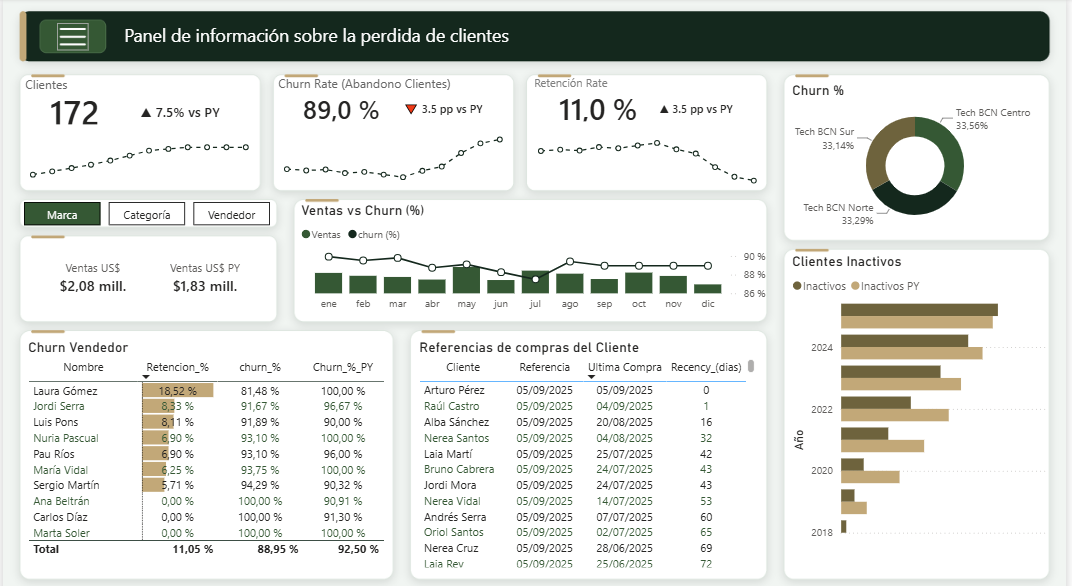

The page's visual inventory and layout, read from the dashboard file:
{"tool":"powerbi","page":{"name":"Panel Abandono Clientes","canvas":[1280,720],"ordinal":2},"visuals":[{"type":"cardVisual","fields":{"Data":["Medidas_churn.churn_%","Medidas_Rate.Churn_%_vs_PY_(Texto)"]},"box":[332.7,97.3,275,68],"z":0,"group":"g2"},{"type":"cardVisual","fields":{"Data":["Medidas_churn.Retencion_%","Medidas_Rate.Retencion_%_vs_PY_texto"]},"box":[640,97.5,275,68],"z":0,"group":"g1"},{"type":"cardVisual","fields":{"Data":["Medidas_churn.clientes_totales","Medidas_Clientes_Activos.Clientes_Totales_Vs_PY_texto"]},"box":[27.3,101.4,275,68],"z":0},{"type":"textbox","box":[21.4,88.6,85.7,31.4],"z":1000},{"type":"lineChart","fields":{"Category":["DIM_Calendario.Mes Corto"],"Y":["Medidas_Serie.Retencion_%_vs_PY_(texto)"]},"box":[633,151,285,80],"z":1000,"group":"g1"},{"type":"lineChart","fields":{"Category":["DIM_Calendario.Mes Corto"],"Y":["Medidas_Serie.Churn_%_(serie)"]},"box":[328,151.3,285,80],"z":1000,"group":"g2"},{"type":"donutChart","title":"Churn %","fields":{"Category":["DIM_Agencias.agencianombre"],"Y":["Medidas_churn.churn_%"]},"box":[945.7,101.4,305.7,182.9],"z":2000},{"type":"lineChart","fields":{"Category":["DIM_Calendario.Mes Corto"],"Y":["Medidas_Serie.Clientes_Totales_(serie)"]},"box":[21.4,157.5,285,80],"z":3000},{"type":"textbox","box":[141.4,25.7,576.7,48.2],"z":4000},{"type":"tableEx","title":"Churn Vendedor","fields":{"Values":["DIM_Vendedor.Nombre","Medidas_churn.Retencion_%","Medidas_churn.churn_%","Medidas_Rate.Churn_%_PY"]},"box":[25.7,410,440,280],"z":7000},{"type":"bookmarkNavigator","box":[25.7,245.7,297.1,28.6],"z":8000},{"type":"cardVisual","fields":{"Data":["Medidas_base_facturacion.ventas_totales","Medidas_Inteligencia_Tiempo.ventas_totales_ly"]},"box":[27.1,295.7,296.2,81.2],"z":9000},{"type":"lineClusteredColumnComboChart","title":"Ventas vs Churn (%)","fields":{"Category":["DIM_Calendario.Mes Corto"],"Y":["Medidas_base_facturacion.ventas_totales"],"Y2":["Medidas_churn.churn_%"]},"box":[354.3,245.7,570,140],"z":10000},{"type":"tableEx","title":"Referencias de compras del Cliente","fields":{"Values":["DIM_Clientes.Cliente","Medidas_churn.Fecha_Ref","Medidas_churn.ultima_compra_cliente","Medidas_churn.Recency_(dias)"]},"box":[495.7,410,414.3,280],"z":11000},{"type":"clusteredBarChart","title":"Clientes Inactivos","fields":{"Category":["DIM_Calendario.Fecha.Variation.Jerarquía de fechas.Año","DIM_Calendario.Fecha.Variation.Jerarquía de fechas.Trimestre","DIM_Calendario.Fecha.Variation.Jerarquía de fechas.Mes","DIM_Calendario.Fecha.Variation.Jerarquía de fechas.Día"],"Y":["Medidas_churn.clientes_con_churn","Medidas_Rate.Clientes_con_Churn_PY"]},"box":[945.7,307.1,315.7,394.3],"z":12000},{"type":"image","title":"Img_ver_filtros_D3","box":[65,30,38.3,33.3],"z":17000},{"type":"group","id":"g1","title":"Grupo 3","box":[633,97.5,285,133.5],"z":21000},{"type":"group","id":"g2","title":"Grupo 2","box":[328,97.3,285,134],"z":22000},{"type":"textbox","box":[326.5,88.3,222.2,32.1],"z":23000},{"type":"textbox","box":[634.3,88.3,125.8,32.1],"z":24000}]}

Visuals, with their boxes in screenshot pixels (x1, y1, x2, y2), scaled from the page's 1280x720 canvas onto the 1072x586 screenshot:
cardVisual - Medidas_churn.churn_% x Medidas_Rate.Churn_%_vs_PY_(Texto): 279/79/509/135
cardVisual - Medidas_churn.Retencion_% x Medidas_Rate.Retencion_%_vs_PY_texto: 536/79/766/135
cardVisual - Medidas_churn.clientes_totales x Medidas_Clientes_Activos.Clientes_Totales_Vs_PY_texto: 23/83/253/138
textbox: 18/72/90/98
lineChart - DIM_Calendario.Mes Corto x Medidas_Serie.Retencion_%_vs_PY_(texto): 530/123/769/188
lineChart - DIM_Calendario.Mes Corto x Medidas_Serie.Churn_%_(serie): 275/123/513/188
"Churn %" donutChart: 792/83/1048/231
lineChart - DIM_Calendario.Mes Corto x Medidas_Serie.Clientes_Totales_(serie): 18/128/257/193
textbox: 118/21/601/60
"Churn Vendedor" tableEx: 22/334/390/562
bookmarkNavigator: 22/200/270/223
cardVisual - Medidas_base_facturacion.ventas_totales x Medidas_Inteligencia_Tiempo.ventas_totales_ly: 23/241/271/307
"Ventas vs Churn (%)" lineClusteredColumnComboChart: 297/200/774/314
"Referencias de compras del Cliente" tableEx: 415/334/762/562
"Clientes Inactivos" clusteredBarChart: 792/250/1056/571
"Img_ver_filtros_D3" image: 54/24/87/52
"Grupo 3" group: 530/79/769/188
"Grupo 2" group: 275/79/513/188
textbox: 273/72/460/98
textbox: 531/72/637/98
